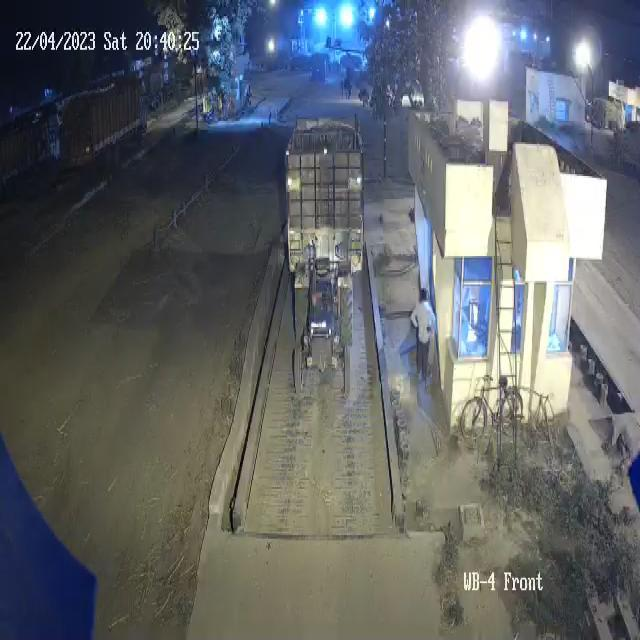Tratores - v5 YOLO V8L 2024-11-13: (292, 266, 362, 404)
